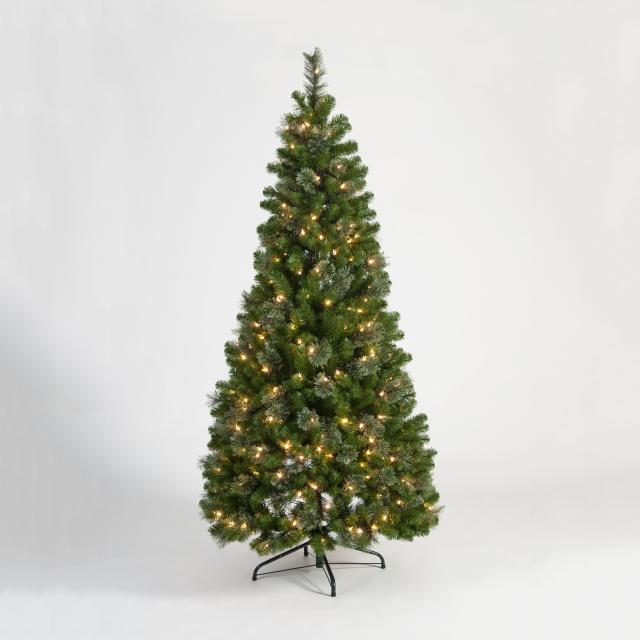Christmas-tree: (56, 7, 569, 640)
